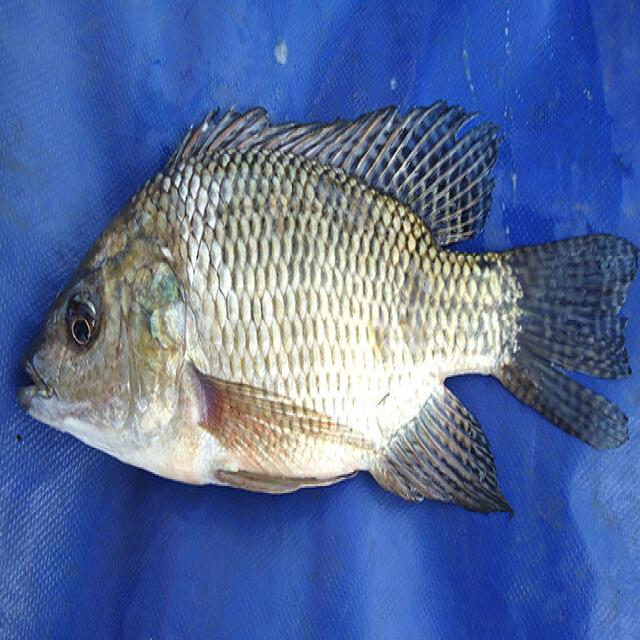ikan: (17, 97, 638, 517)
